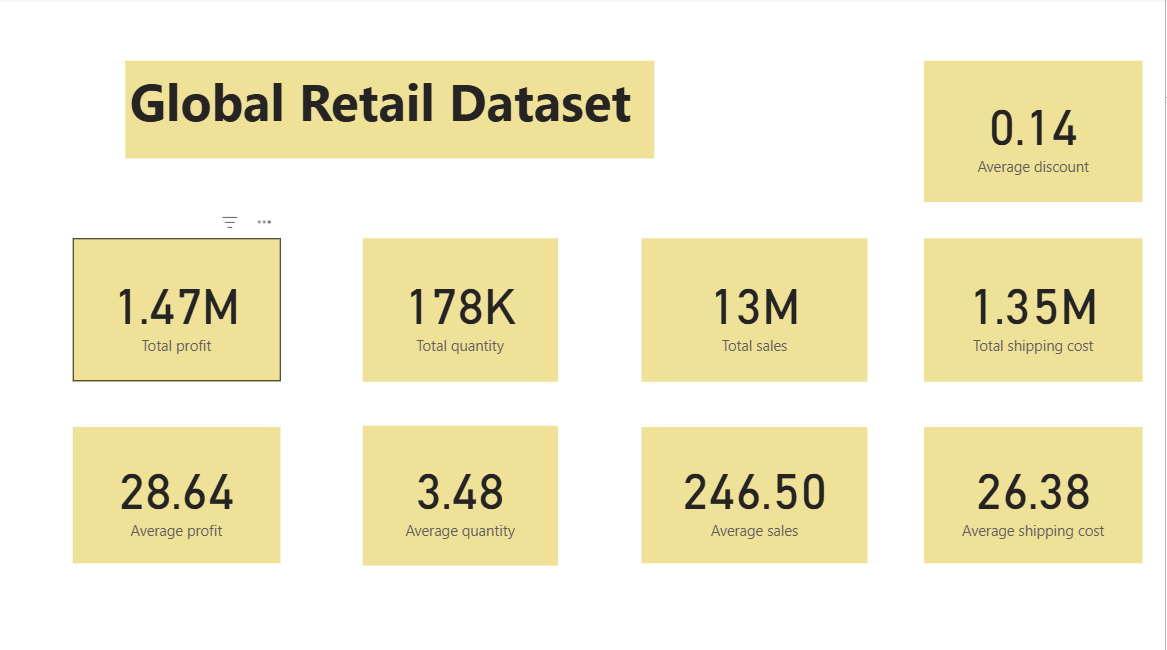

This screenshot's page, from the dashboard's own definition file:
{"tool":"powerbi","page":{"name":"KPI","canvas":[1280,720],"ordinal":0},"visuals":[{"type":"card","title":"Total P","fields":{"Values":["Sum(SuperStoreOrders.profit)"]},"box":[81,264.8,227.8,157.8],"z":0},{"type":"card","fields":{"Values":["Sum(SuperStoreOrders.sales)"]},"box":[705.3,264.8,248.4,157.8],"z":1000},{"type":"card","fields":{"Values":["Avg(SuperStoreOrders.discount)"]},"box":[1015.4,70,240.1,155.1],"z":2000},{"type":"card","fields":{"Values":["Avg(SuperStoreOrders.profit)"]},"box":[81,472,227.8,149.6],"z":3000},{"type":"card","fields":{"Values":["Avg(SuperStoreOrders.sales)"]},"box":[705.3,472,248.4,149.6],"z":4000},{"type":"card","fields":{"Values":["Avg(SuperStoreOrders.quantity)"]},"box":[399.3,470.7,214.1,153.7],"z":5000},{"type":"card","fields":{"Values":["Sum(SuperStoreOrders.quantity)"]},"box":[399.3,264.8,214.1,157.8],"z":6000},{"type":"card","fields":{"Values":["Sum(SuperStoreOrders.shipping_cost)"]},"box":[1015.4,264.8,240.1,157.8],"z":7000},{"type":"card","fields":{"Values":["Avg(SuperStoreOrders.shipping_cost)"]},"box":[1015.4,472,240.1,149.6],"z":8000},{"type":"textbox","box":[138.6,70,580.4,107],"z":9000}]}

Visuals, with their boxes in screenshot pixels (x1, y1, x2, y2), scaled from the page's 1280x720 canvas onto the 1167x650 screenshot:
"Total P" card: select_region(74, 239, 282, 382)
card - Sum(SuperStoreOrders.sales): select_region(643, 239, 870, 382)
card - Avg(SuperStoreOrders.discount): select_region(926, 63, 1145, 203)
card - Avg(SuperStoreOrders.profit): select_region(74, 426, 282, 561)
card - Avg(SuperStoreOrders.sales): select_region(643, 426, 870, 561)
card - Avg(SuperStoreOrders.quantity): select_region(364, 425, 559, 564)
card - Sum(SuperStoreOrders.quantity): select_region(364, 239, 559, 382)
card - Sum(SuperStoreOrders.shipping_cost): select_region(926, 239, 1145, 382)
card - Avg(SuperStoreOrders.shipping_cost): select_region(926, 426, 1145, 561)
textbox: select_region(126, 63, 656, 160)
